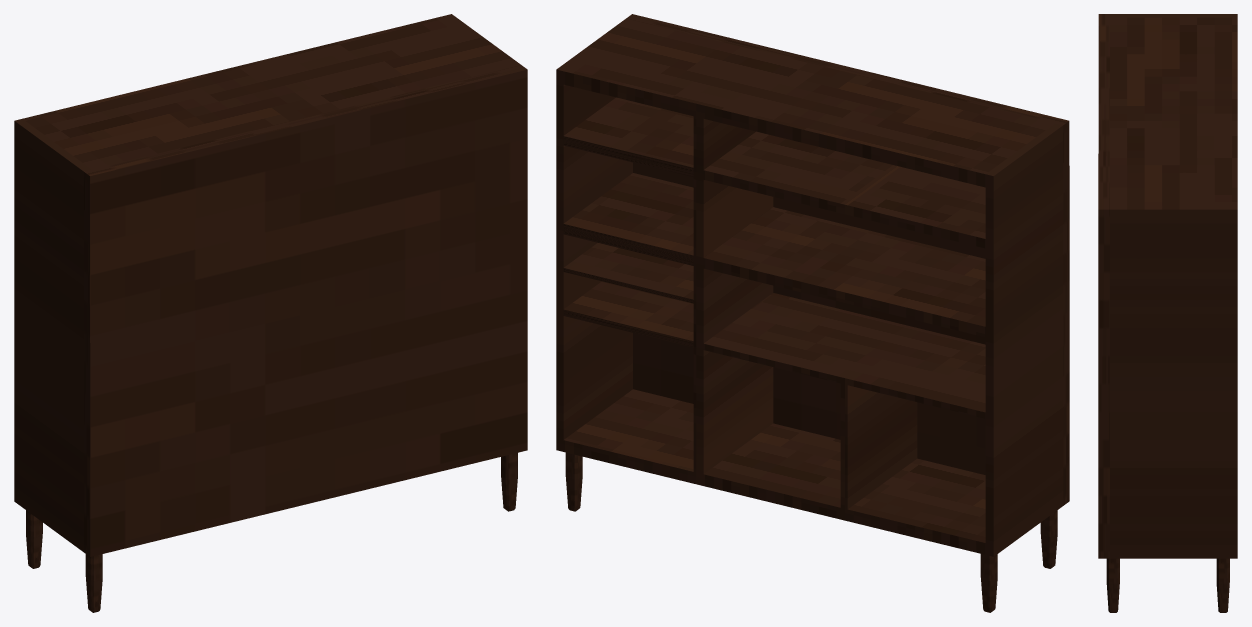
The model's file is skaf.obj.
The picture shows the model from 3 angles, left to right: view 1: azimuth 30°, elevation 25°; view 2: azimuth 150°, elevation 25°; view 3: azimuth 270°, elevation 25°; orthographic projection. The views are drawn at different scales.
Visible parts, largest first — view 1: Куб.001, Куб, Куб.002, Куб.003; view 2: Куб, Куб.001, Куб.003, Куб.002; view 3: Куб, Куб.001, Куб.002, Куб.003.
Boxes of the visible parts, bbox=[...] form: Куб.001: bbox=[83, 65, 527, 556]; Куб: bbox=[14, 14, 520, 552]; Куб.002: bbox=[85, 453, 517, 612]; Куб.003: bbox=[26, 510, 42, 568]; Куб: bbox=[556, 18, 1063, 556]; Куб.001: bbox=[626, 14, 1069, 505]; Куб.003: bbox=[565, 452, 997, 612]; Куб.002: bbox=[1040, 510, 1057, 568]; Куб: bbox=[1110, 14, 1237, 558]; Куб.001: bbox=[1098, 14, 1110, 558]; Куб.002: bbox=[1106, 558, 1119, 612]; Куб.003: bbox=[1216, 558, 1229, 612].
Bounding box in the file's own units: 3.3 × 3.2 × 0.9932.
Materials: 2 (2 with a texture image).
